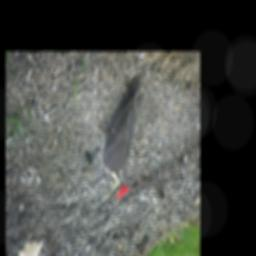Woodpecker: (92, 74, 145, 206)
